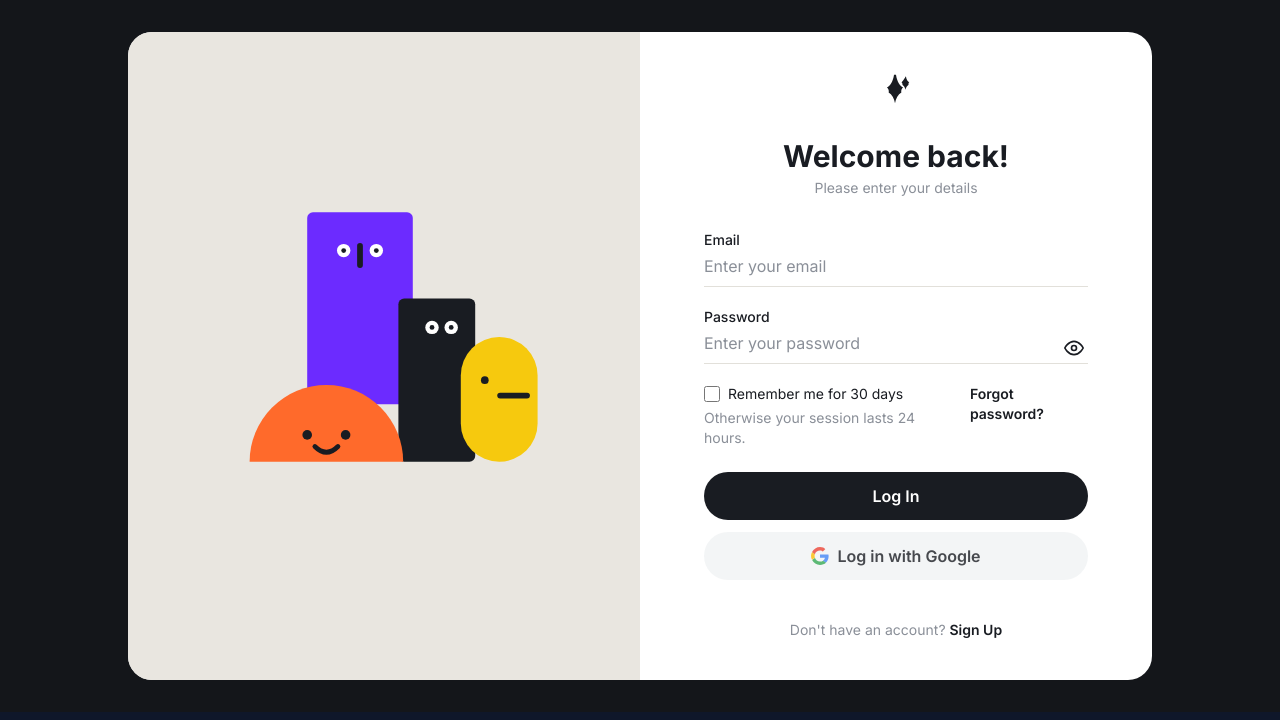
Test: LoginPage submission › disables the submit button and shows the pending label while in flight
The width and height of the screenshot is (1280, 720).
Type "user@test.co" into the field labelled "Email" at (896, 270), box 704,254 -> 1088,287
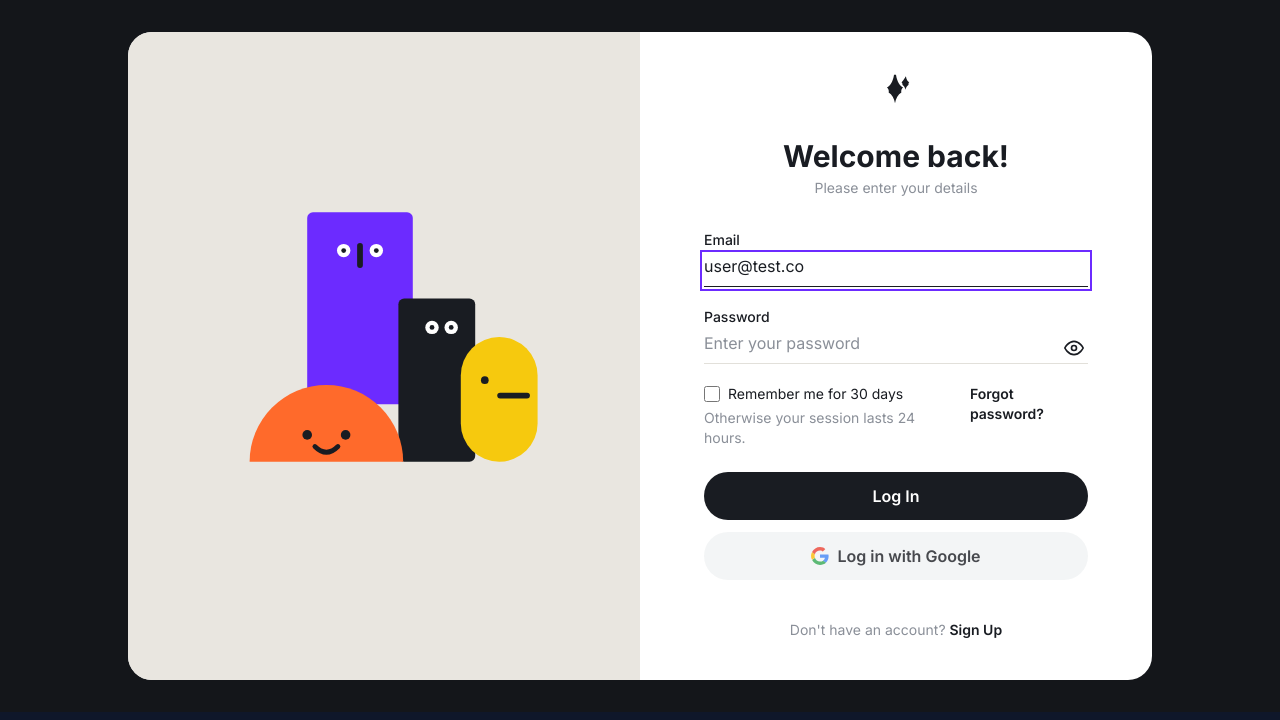
Type "Secret123" into the password field labelled "Password" at (896, 348), box 704,331 -> 1088,364
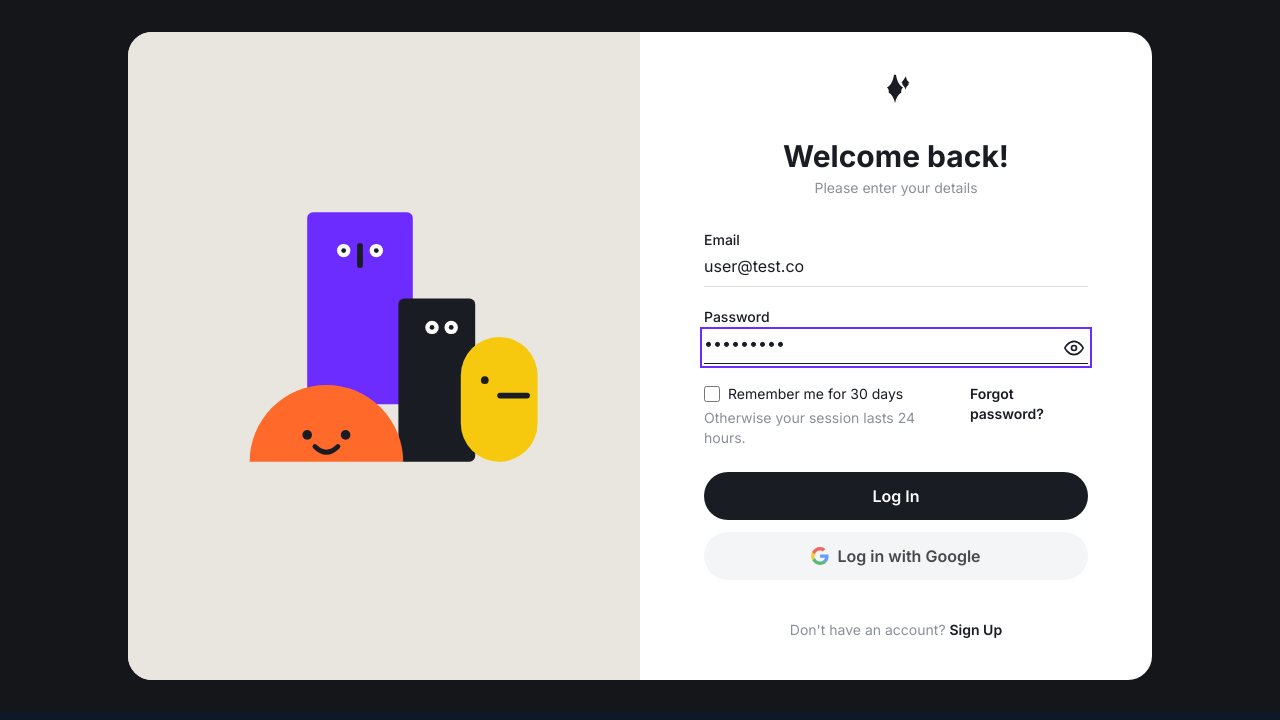
Click the button "Log In" at (896, 496), box 704,472 -> 1088,520
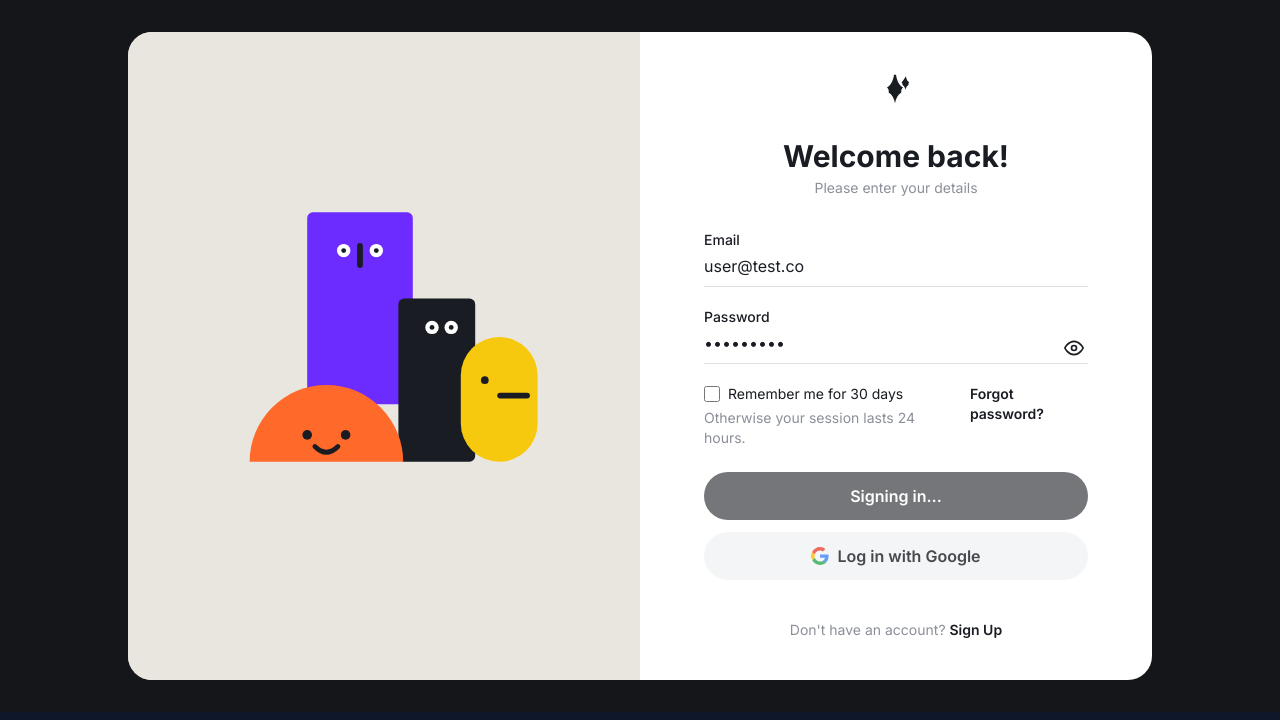
Now the button "Signing in…" is disabled, box 704,472 -> 1088,520
